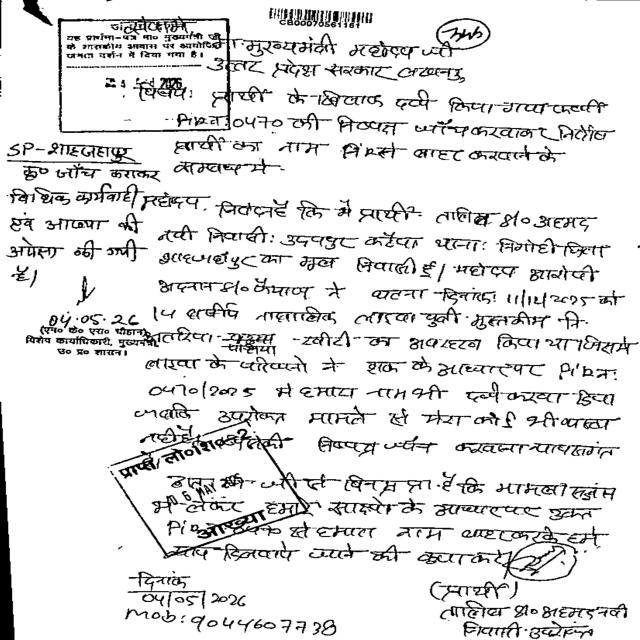antritgovtstamp: (85, 419, 308, 560)
barcode: (261, 2, 374, 30)
jantadarsan: (50, 17, 237, 134)
